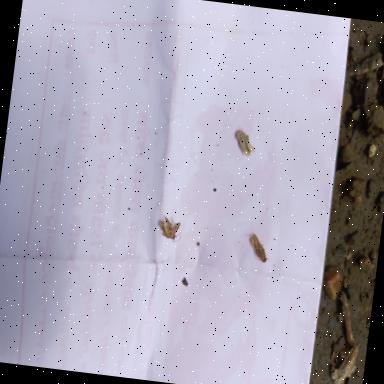pbw: (242, 232, 272, 263), (232, 128, 258, 158), (157, 215, 183, 243)
